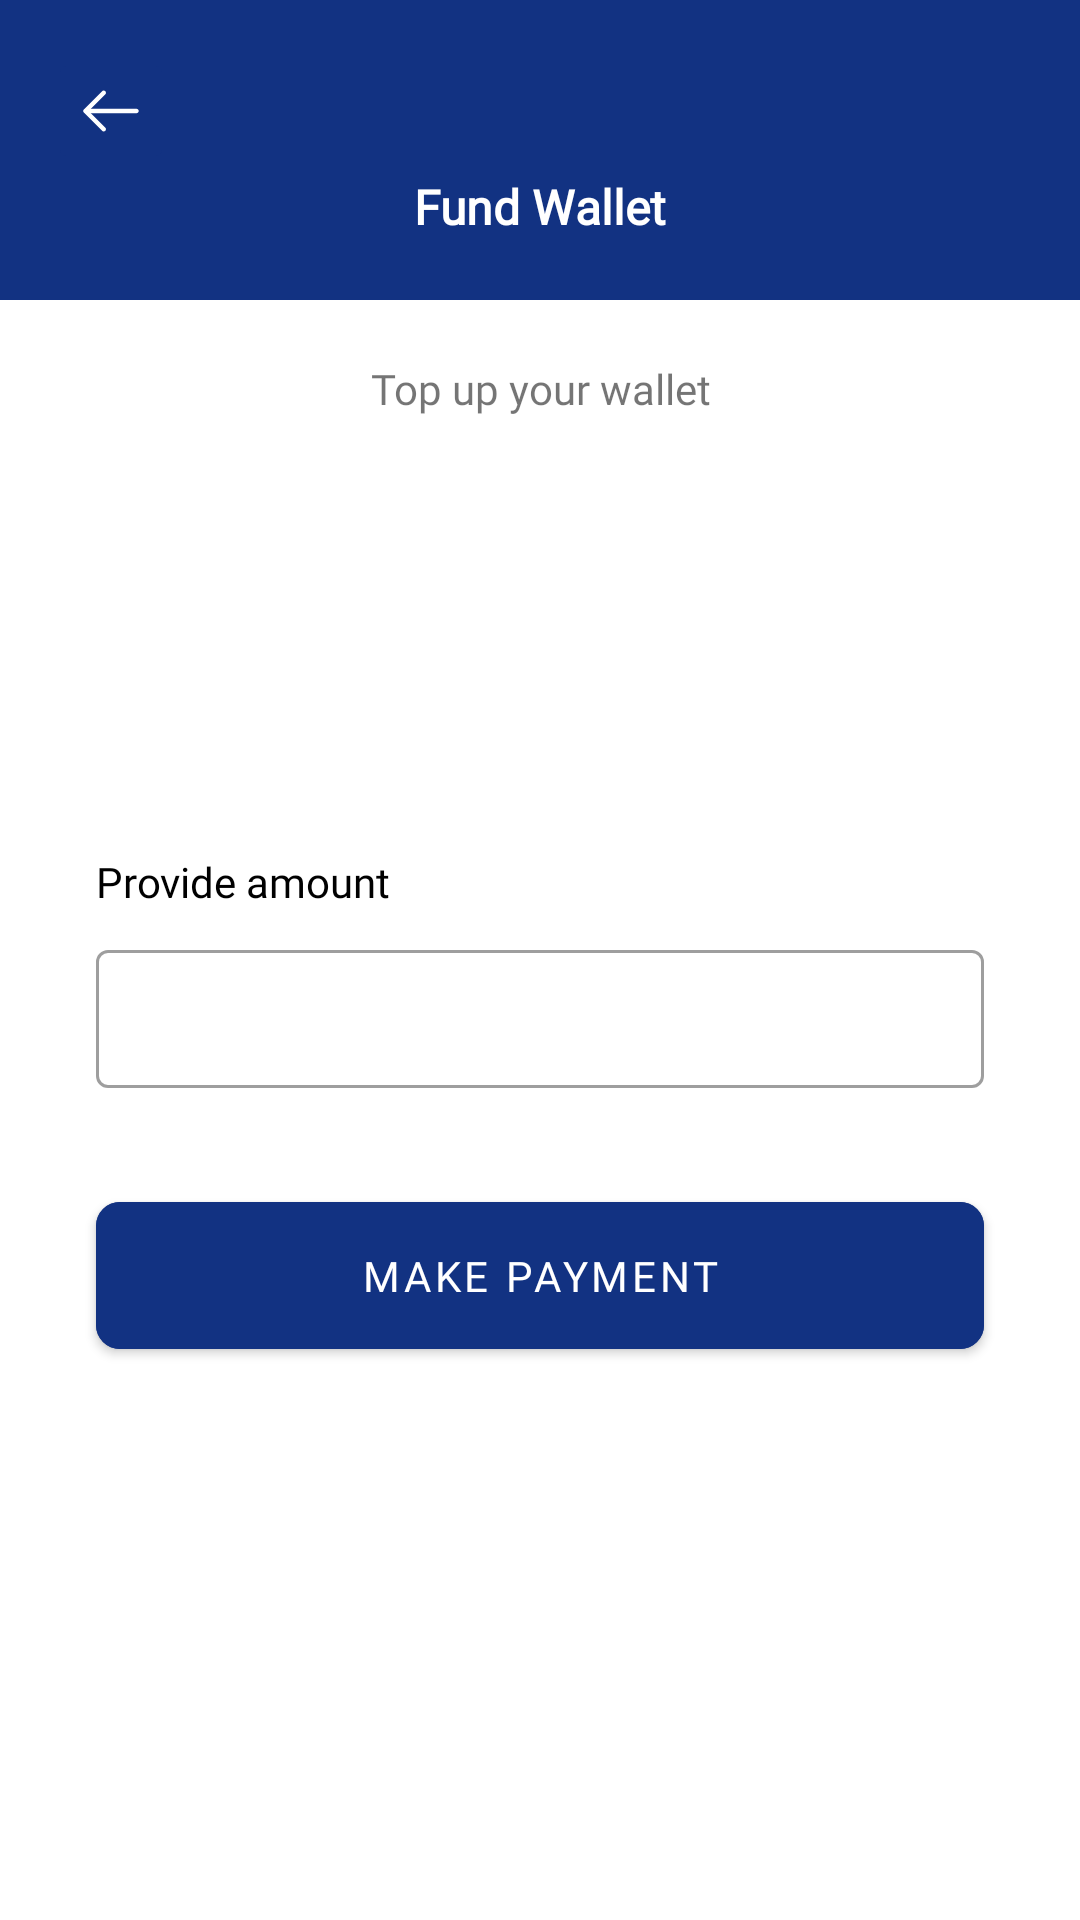

Screen size 1080*1920. Icon name, then its box in pixels as (x1, y1, x2, y2):
arrow left: (83, 90, 139, 132)
